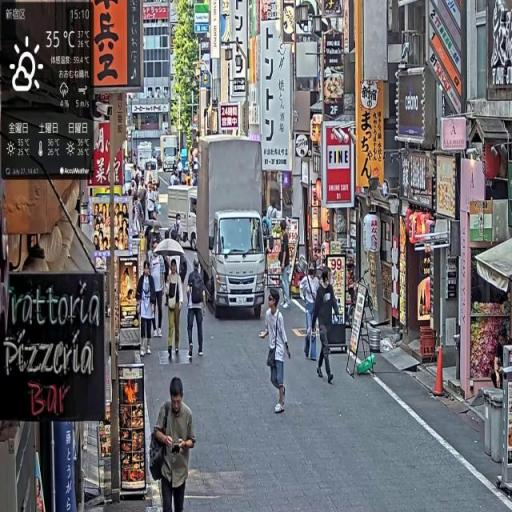person: (152, 375, 199, 512), (261, 288, 292, 416), (311, 266, 341, 386), (186, 258, 208, 362), (148, 237, 169, 340), (165, 260, 186, 363), (136, 259, 157, 358), (301, 262, 321, 355)
